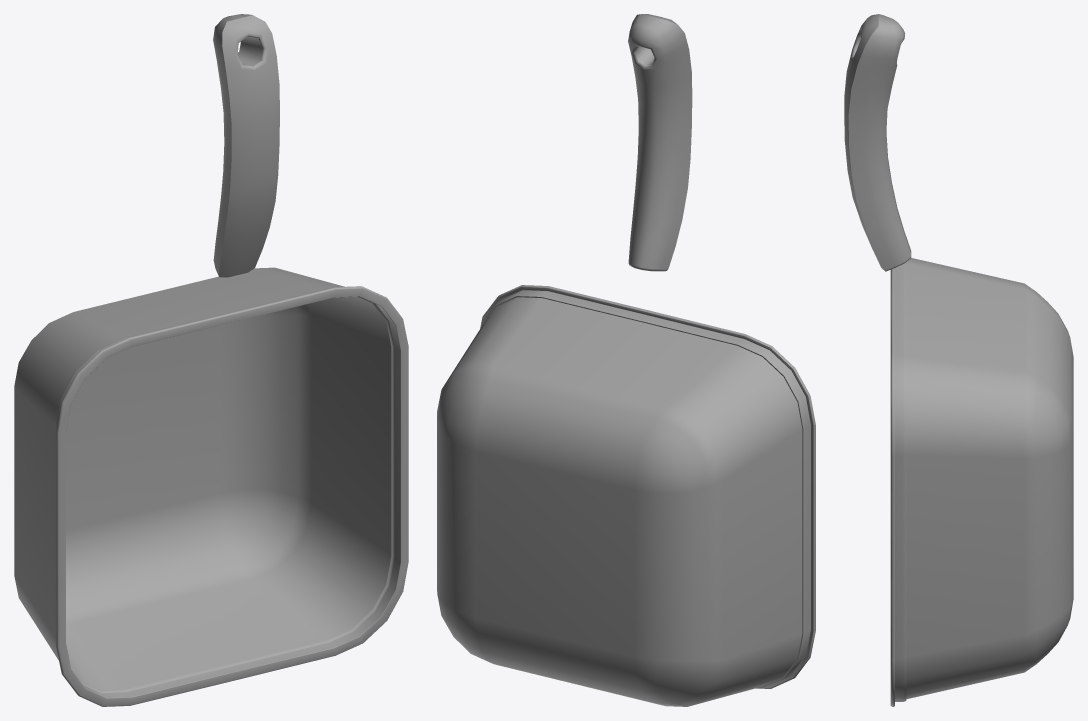
The model's file is MeshPot_11_0_GeomSubset_1.obj.
3 renders of one model, left to right at view 1: azimuth 30°, elevation 25°; view 2: azimuth 150°, elevation 25°; view 3: azimuth 270°, elevation 25°, orthographic. The views are drawn at different scales.
Parts seen in each view (by area): view 1: MeshPot_11_0_GeomSubset_1; view 2: MeshPot_11_0_GeomSubset_1; view 3: MeshPot_11_0_GeomSubset_1.
Part boxes in pixels (box(x1,y1,x2,y2)): MeshPot_11_0_GeomSubset_1: box(14, 14, 408, 706); MeshPot_11_0_GeomSubset_1: box(437, 14, 815, 706); MeshPot_11_0_GeomSubset_1: box(844, 14, 1073, 706).
Bounding box in the file's own units: 0.2682 × 0.4867 × 0.1602.
